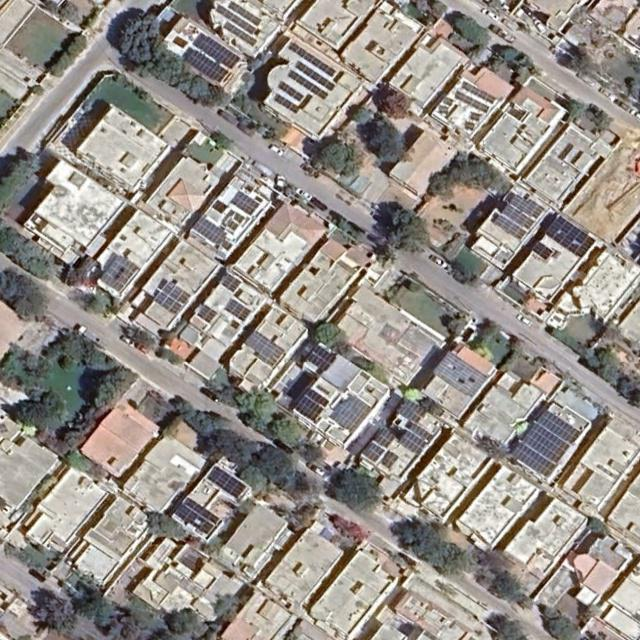solar panel: (512, 409, 582, 478), (434, 351, 488, 397), (546, 216, 596, 257), (193, 32, 240, 69), (330, 395, 372, 434), (289, 43, 336, 77), (184, 47, 228, 83), (100, 255, 140, 292), (244, 330, 284, 364), (295, 61, 336, 92), (208, 467, 247, 499), (216, 4, 256, 35), (288, 70, 327, 100), (155, 281, 190, 314), (174, 504, 213, 533), (184, 497, 220, 524), (194, 218, 228, 244), (510, 194, 544, 219), (223, 22, 257, 47), (493, 215, 526, 240), (503, 205, 535, 230), (228, 2, 261, 26), (397, 399, 427, 424), (462, 82, 495, 104), (455, 91, 488, 113), (295, 397, 325, 421), (399, 430, 426, 455), (231, 191, 259, 215), (224, 298, 251, 321), (277, 81, 304, 102), (410, 423, 434, 444), (361, 442, 385, 462), (275, 94, 299, 114), (313, 345, 337, 363), (307, 390, 330, 408), (307, 353, 329, 371), (198, 304, 219, 322), (223, 273, 241, 292), (534, 242, 553, 259), (381, 452, 399, 468), (299, 93, 313, 110), (233, 212, 244, 223), (228, 220, 239, 231), (442, 97, 454, 106), (470, 112, 481, 121), (439, 105, 448, 114), (465, 121, 474, 129)
